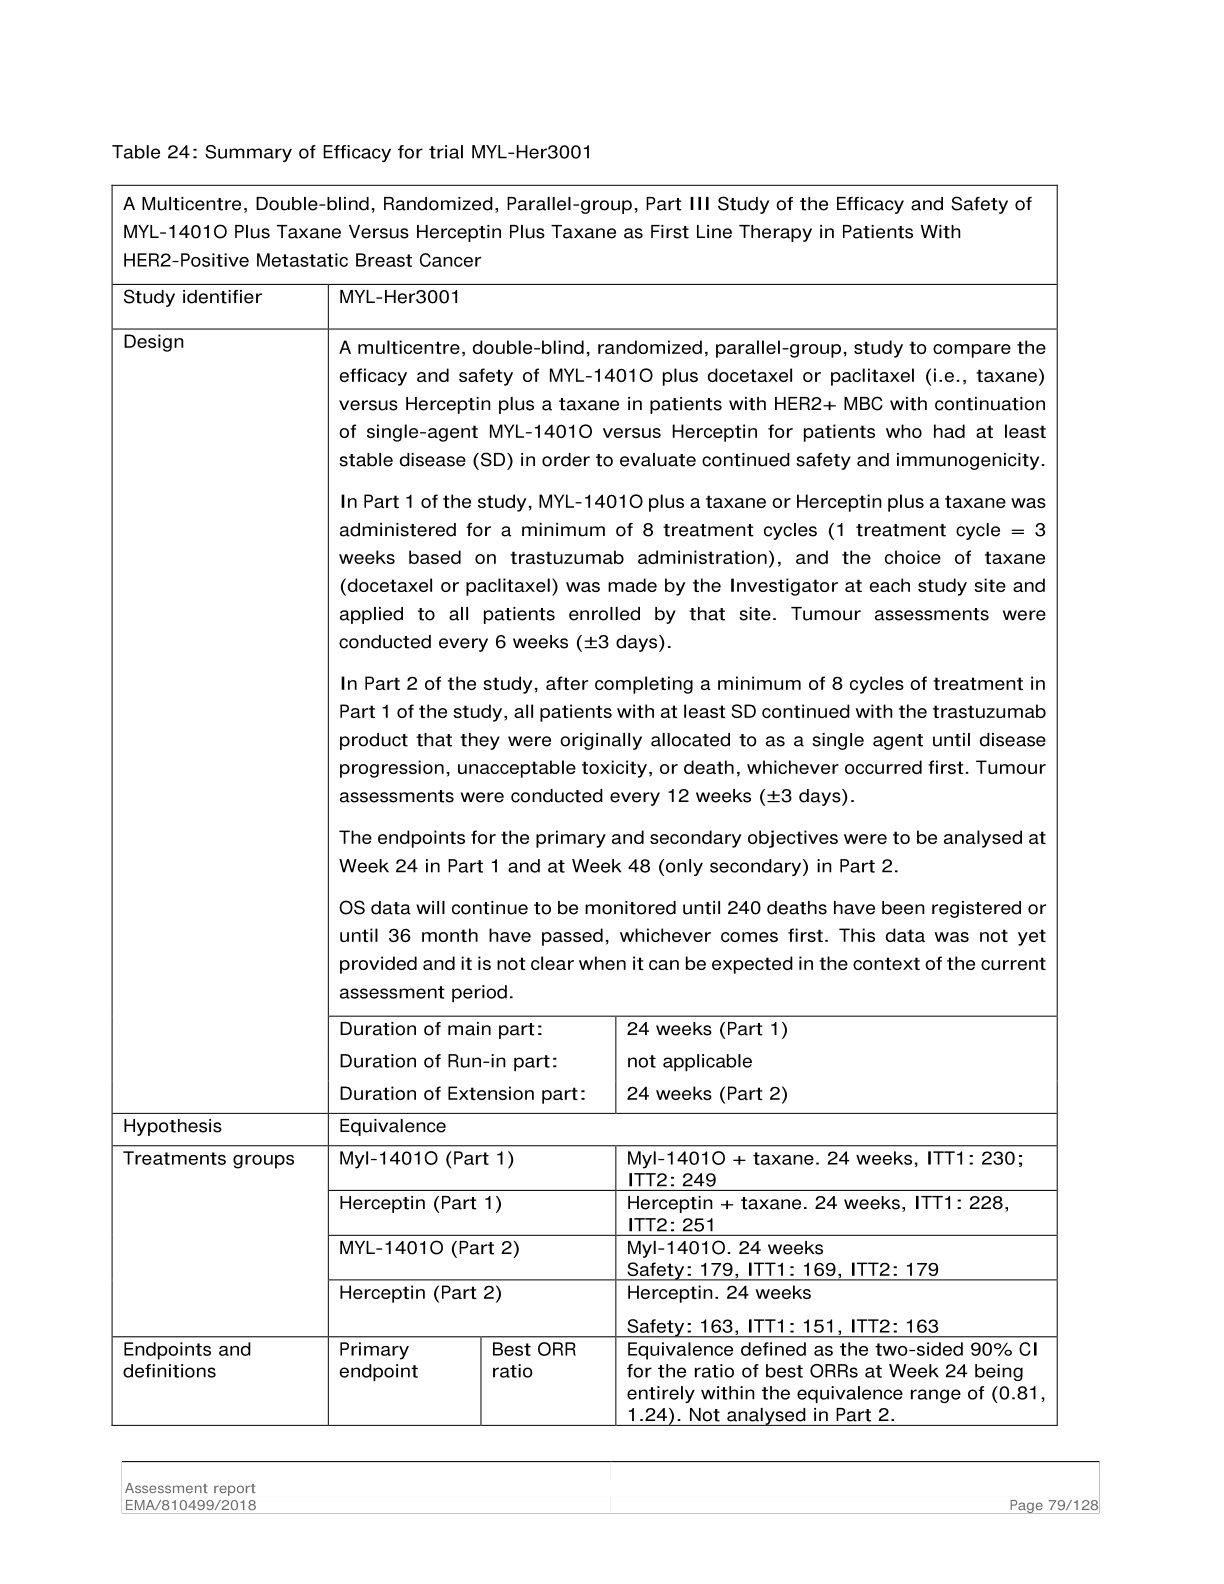merged_cells: (111, 183, 1059, 1428)
